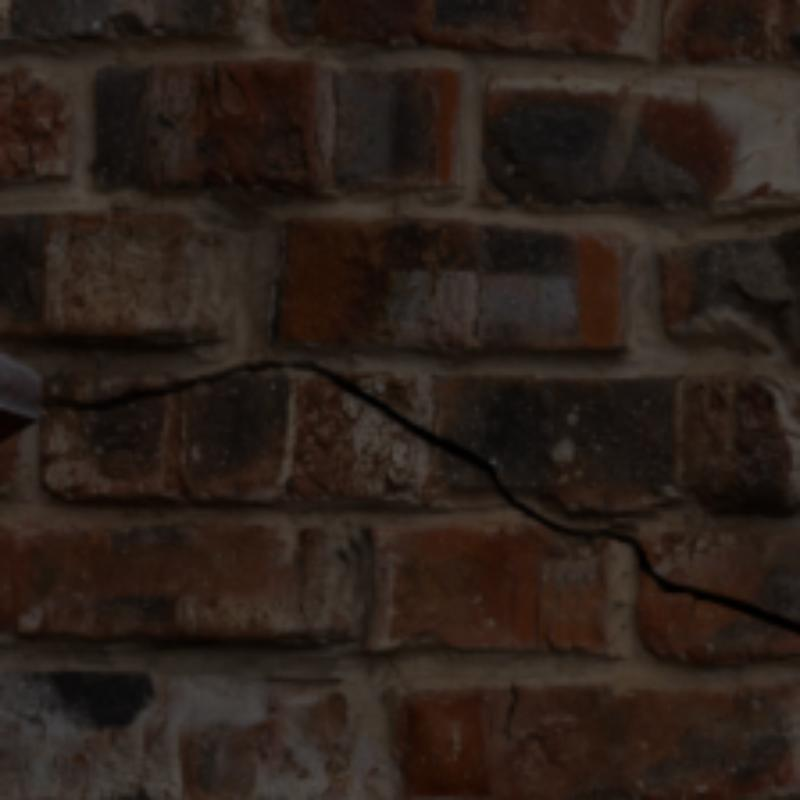pothole: (39, 361, 796, 632)
